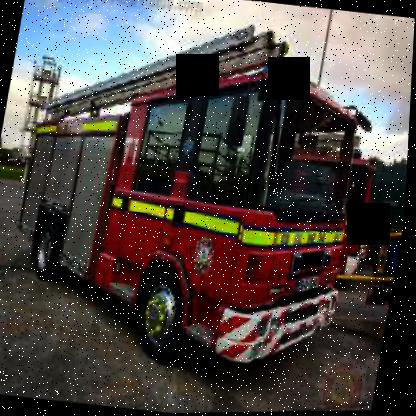emergency: (0, 59, 398, 394)
